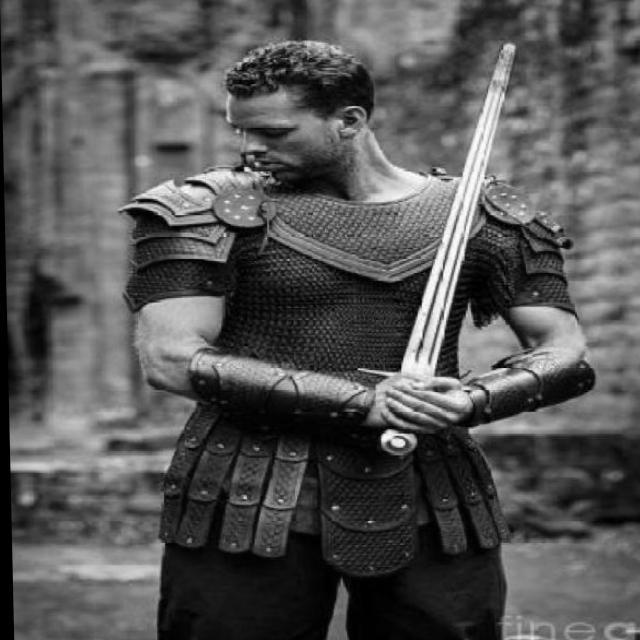weapon: (346, 44, 527, 461)
